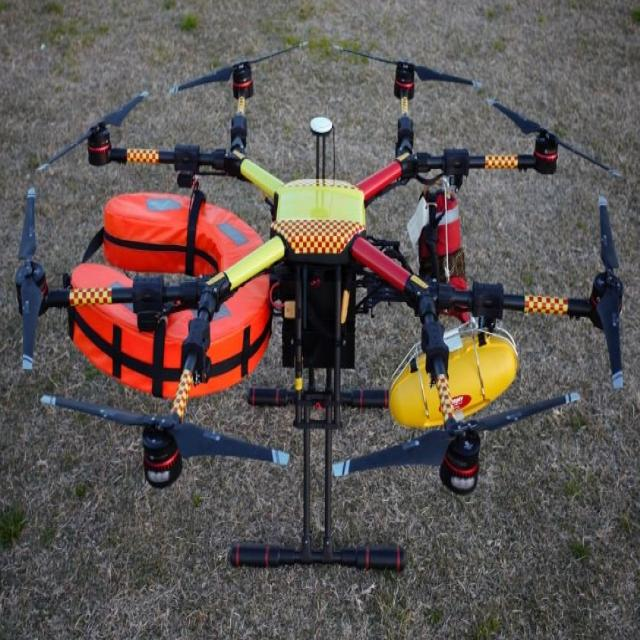drone: (0, 27, 638, 595)
